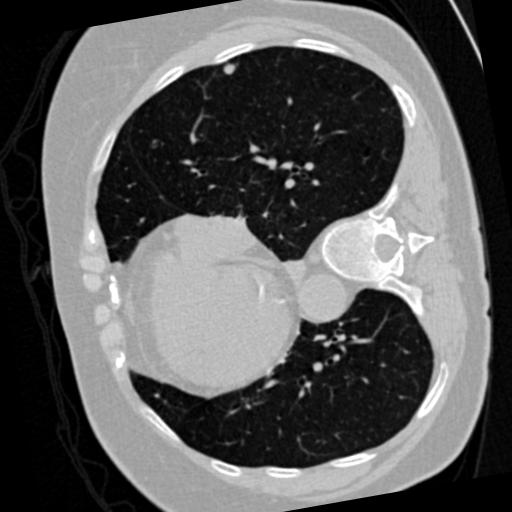nodule: (218, 58, 238, 78)
